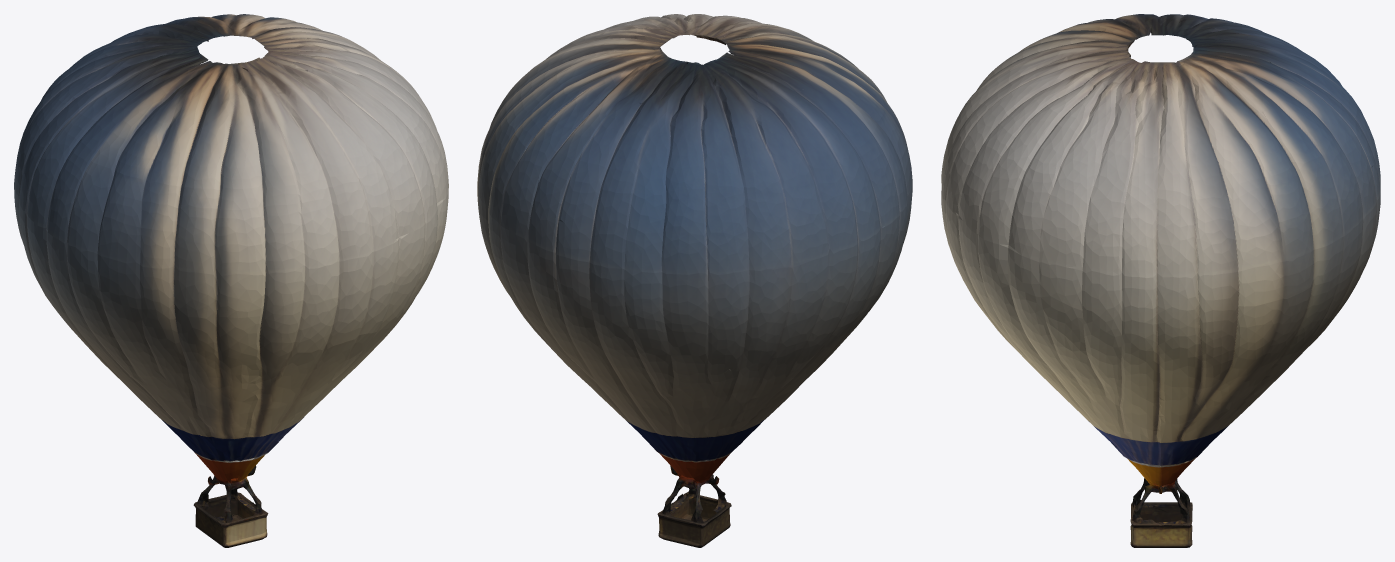
3 renders of one model, left to right at view 1: azimuth 30°, elevation 25°; view 2: azimuth 150°, elevation 25°; view 3: azimuth 270°, elevation 25°, orthographic.
Visible parts, largest first — view 1: world; view 2: world; view 3: world.
Boxes of the visible parts, x1=… form: world: x1=14, y1=14, x2=448, y2=547; world: x1=477, y1=14, x2=912, y2=547; world: x1=941, y1=14, x2=1380, y2=547.
Size of the model in its own units: 0.8135 by 1 by 0.8133.
Materials: 1 (1 with a texture image).
